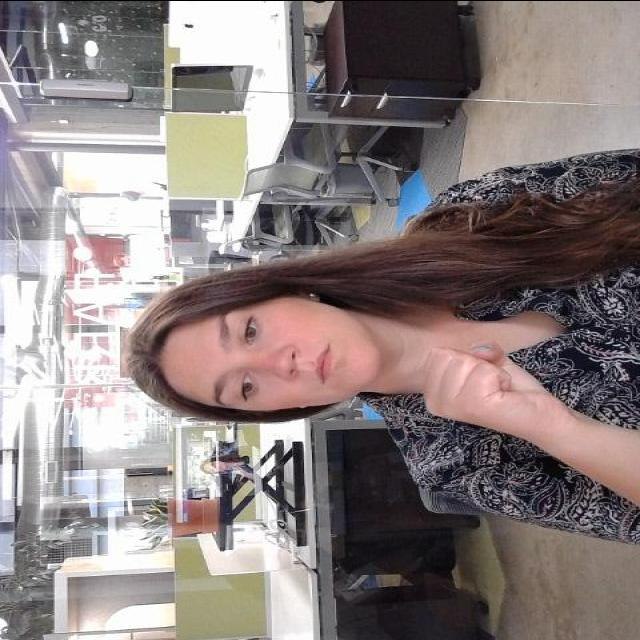Rock: (412, 333, 564, 447)
